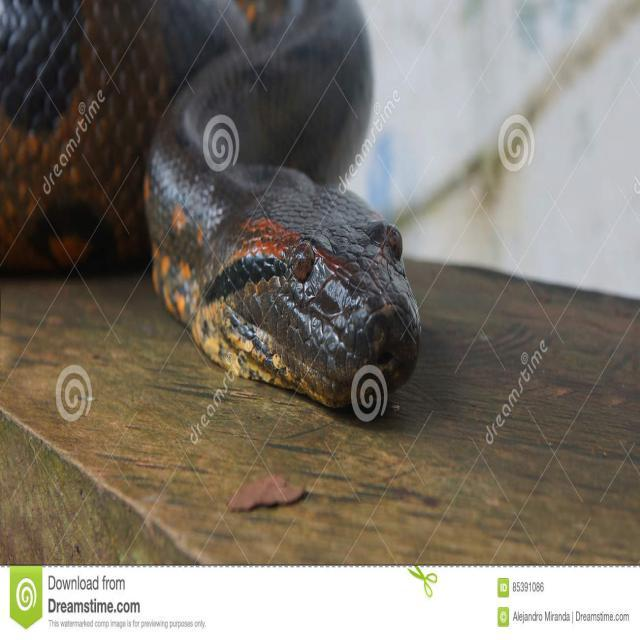Snake: (0, 0, 430, 432)
